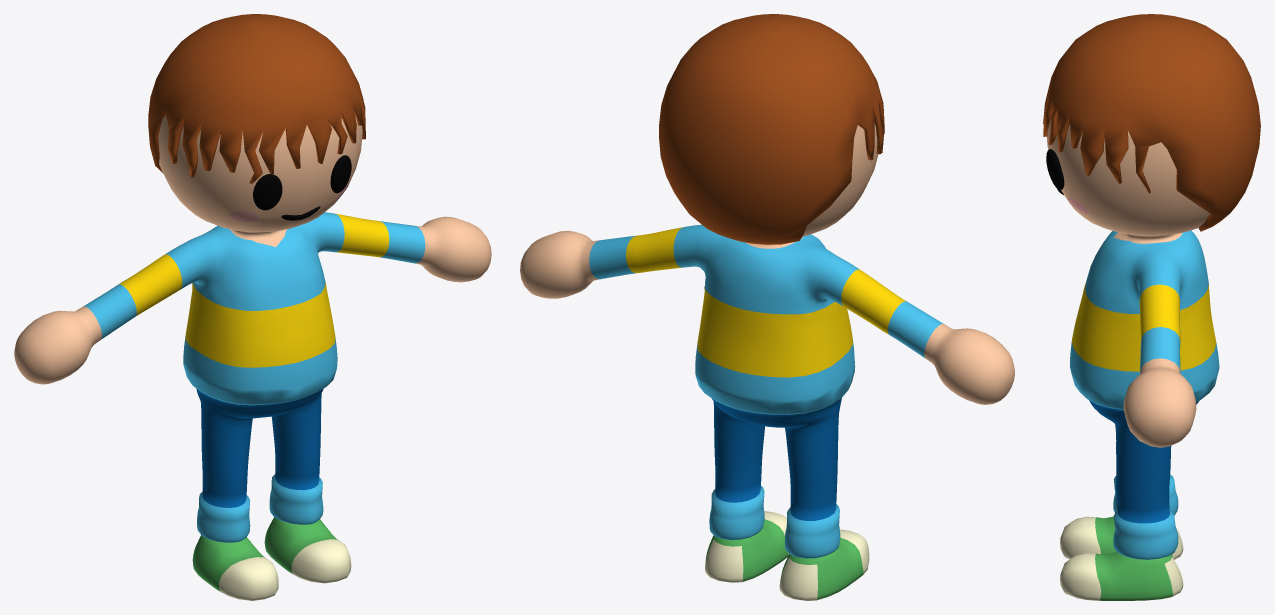
The model's file is Henry.fbx.
The picture shows the model from 3 angles, left to right: view 1: azimuth 30°, elevation 25°; view 2: azimuth 150°, elevation 25°; view 3: azimuth 270°, elevation 25°; orthographic projection. The views are drawn at different scales.
Visible parts, largest first — view 1: Henry; view 2: Henry; view 3: Henry.
Boxes of the visible parts, bbox=[...] form: Henry: bbox=[14, 14, 491, 600]; Henry: bbox=[520, 14, 1014, 600]; Henry: bbox=[1043, 14, 1260, 600].
Size of the model in its own units: 2.55 by 2.8 by 1.01.
